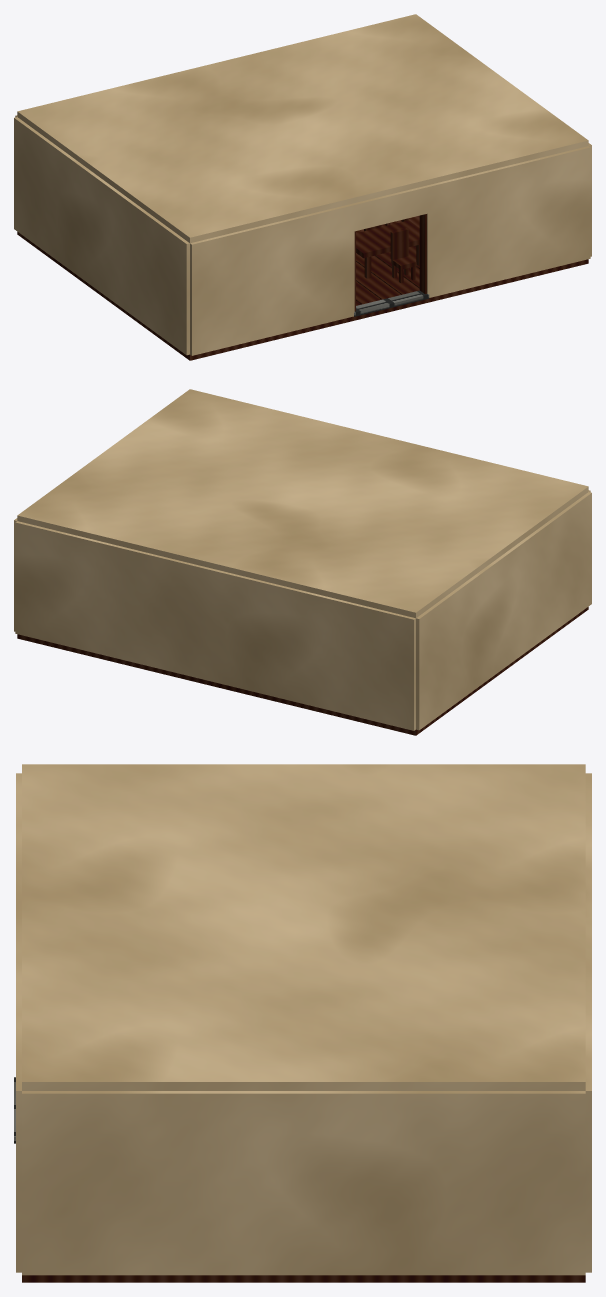
The model's file is interior.fbx.
3 views of the same model, one above another, from view 1: azimuth 30°, elevation 25°; view 2: azimuth 150°, elevation 25°; view 3: azimuth 270°, elevation 25° (orthographic). The views are drawn at different scales.
Parts seen in each view (by area): view 1: Interior_Architecture, Interior_TablesChairsStools, Interior_Floorboards; view 2: Interior_Architecture; view 3: Interior_Architecture.
Boxes of the visible parts, x1,y1,x2,y2 form: Interior_Architecture: (14, 14, 591, 360); Interior_TablesChairsStools: (356, 218, 419, 282); Interior_Floorboards: (356, 215, 419, 305); Interior_Architecture: (14, 389, 591, 735); Interior_Architecture: (14, 764, 591, 1282).
Bounding box in the file's own units: 12.2 × 3.54 × 9.23.
14 materials, 6 textured.
